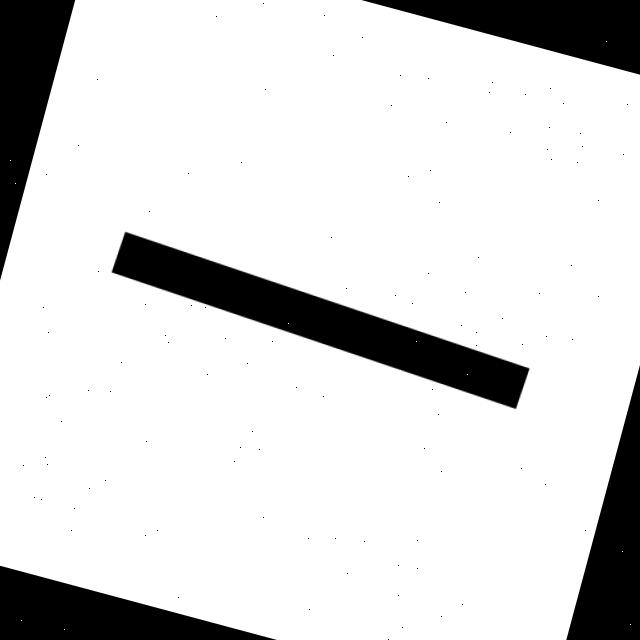line: (111, 232, 529, 409)
